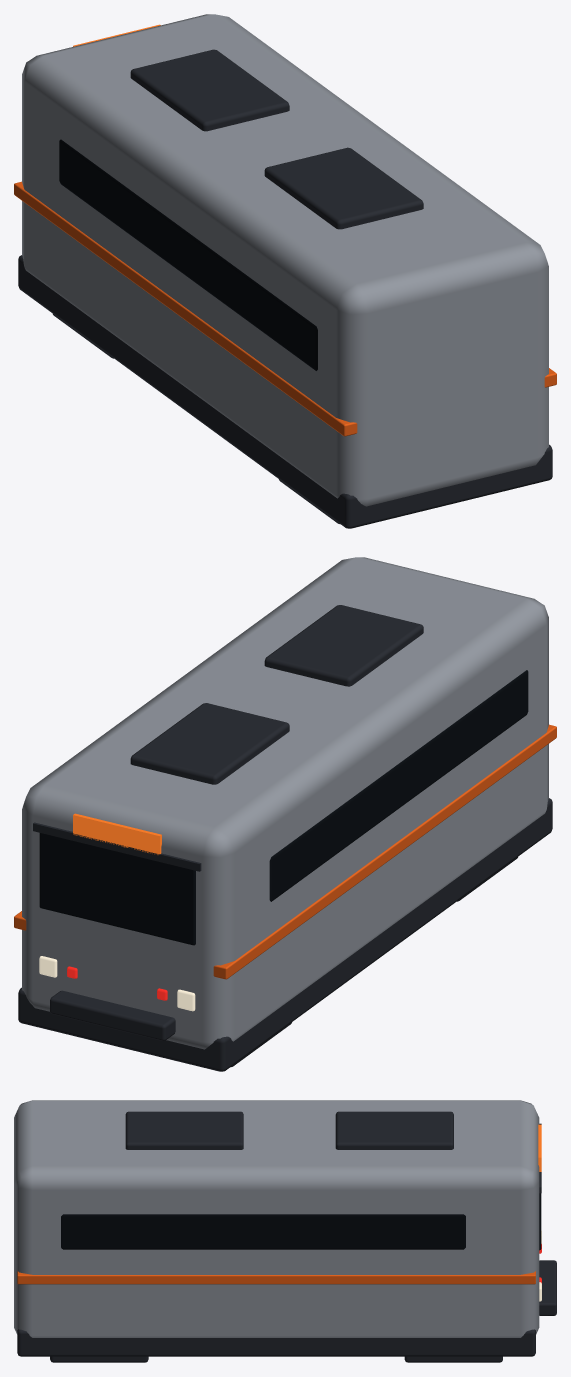
File: obstacle_train.glb
3 renders of one model, top to bottom at view 1: azimuth 30°, elevation 25°; view 2: azimuth 150°, elevation 25°; view 3: azimuth 270°, elevation 25°, orthographic. The views are drawn at different scales.
Visible parts, largest first — view 1: TrainCar; view 2: TrainCar; view 3: TrainCar.
Part boxes in pixels (x1,y1,x2,y2): TrainCar: (14, 14, 556, 528); TrainCar: (14, 557, 556, 1071); TrainCar: (14, 1100, 556, 1362).
Size of the model in its own units: 2.94 by 3.4 by 8.27.
